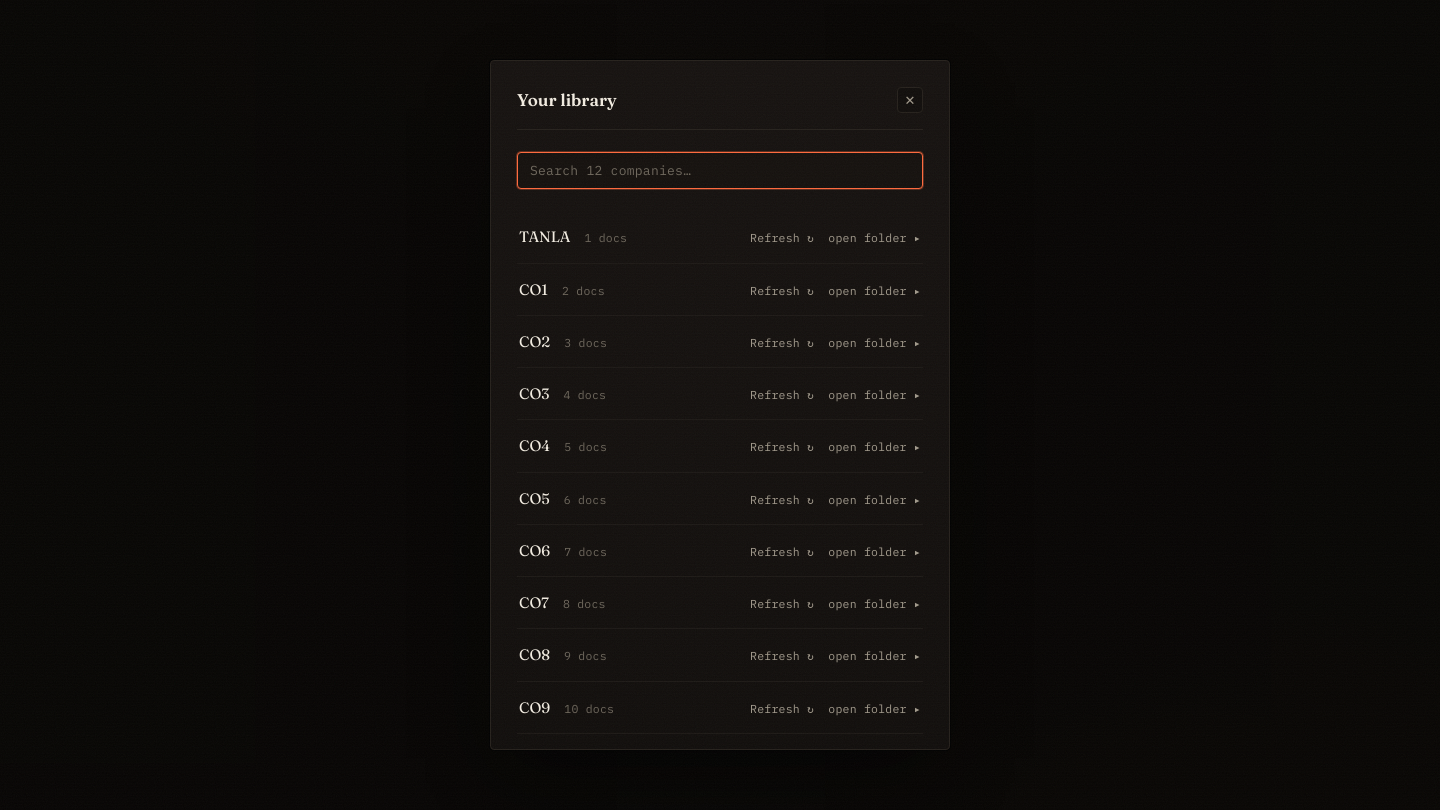
Test: LibraryOverlay: search box appears past 8 companies and filters by ticker
Type "tanla" into the search field named "Search your library" at (720, 171), box top-left (517, 152), bottom-right (923, 189)
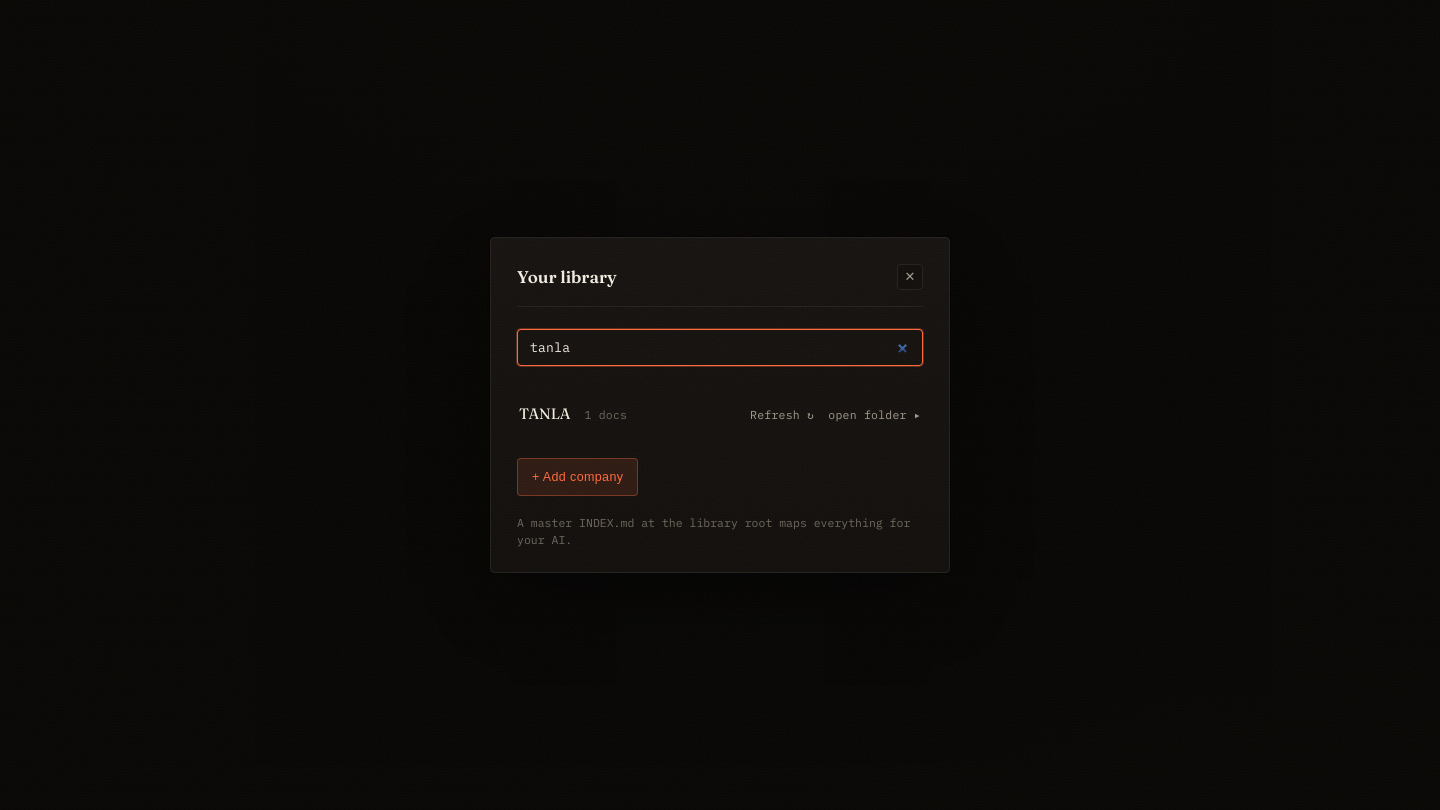
Expected: the text "TANLA" is shown, top-left (519, 402), bottom-right (570, 426)
Now the text "CO1" is gone
Clear the search field named "Search your library" at (720, 348), box top-left (517, 329), bottom-right (923, 366)
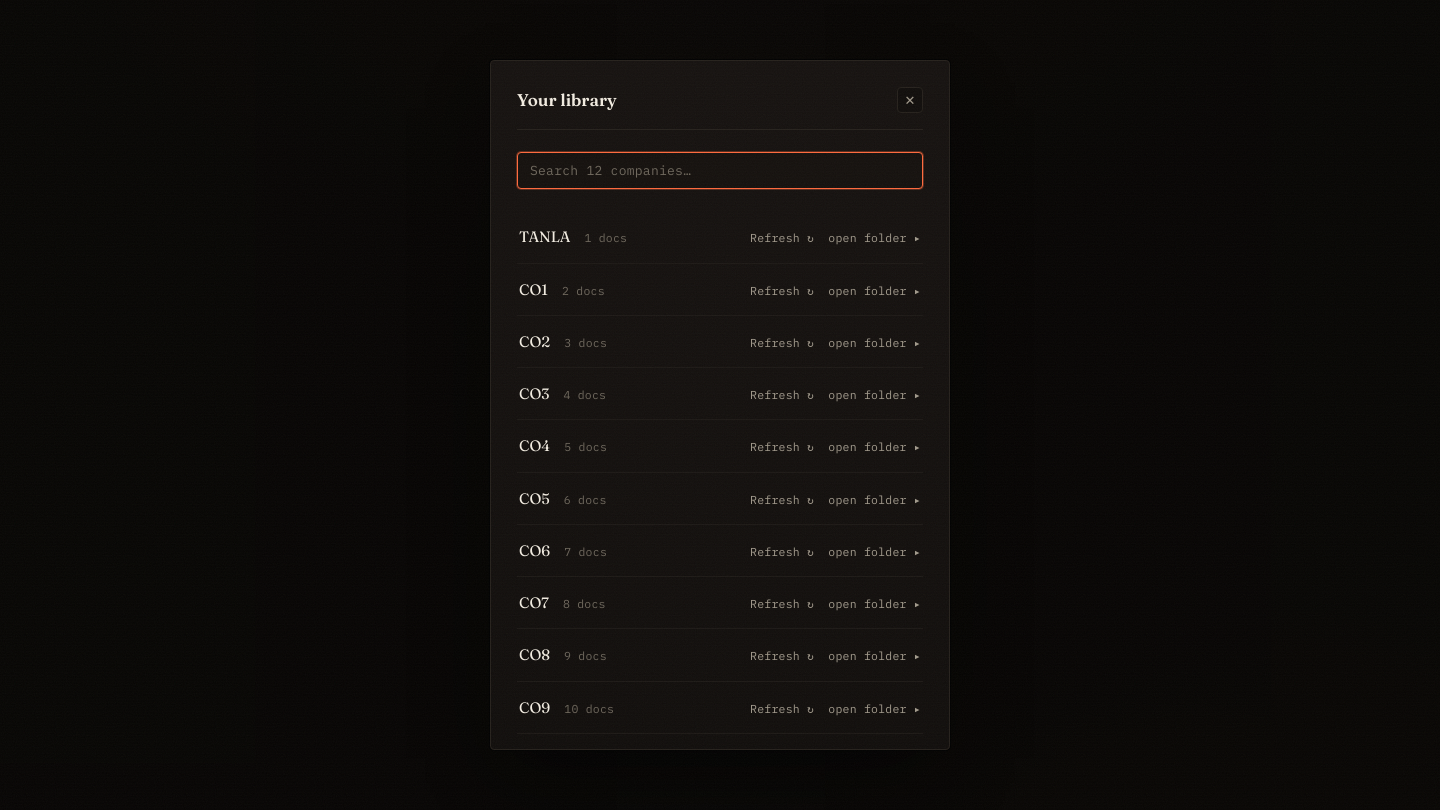
Type "zzz" into the search field named "Search your library" at (720, 171), box top-left (517, 152), bottom-right (923, 189)
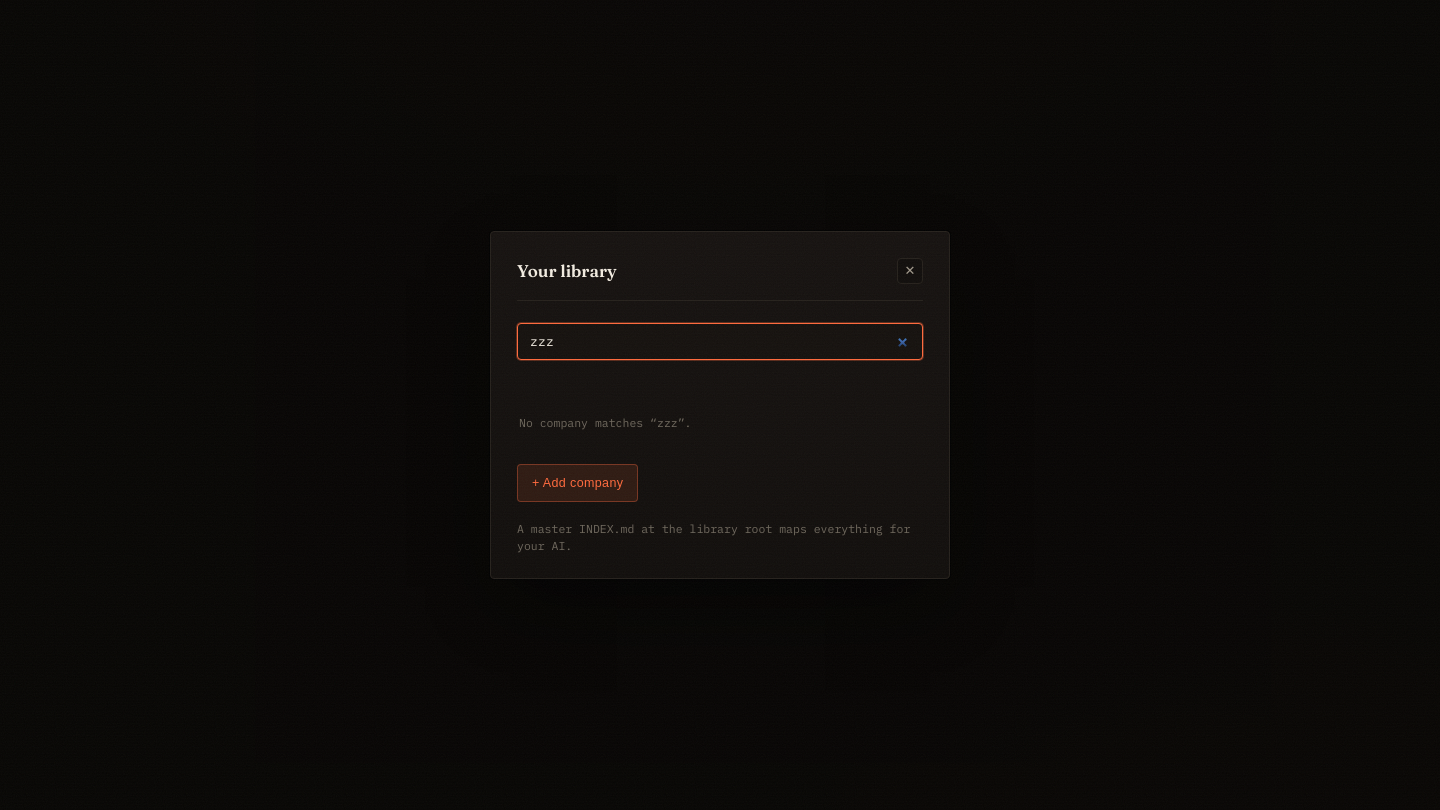
Now the text "No company matches “zzz”." is shown, box top-left (519, 415), bottom-right (692, 430)
